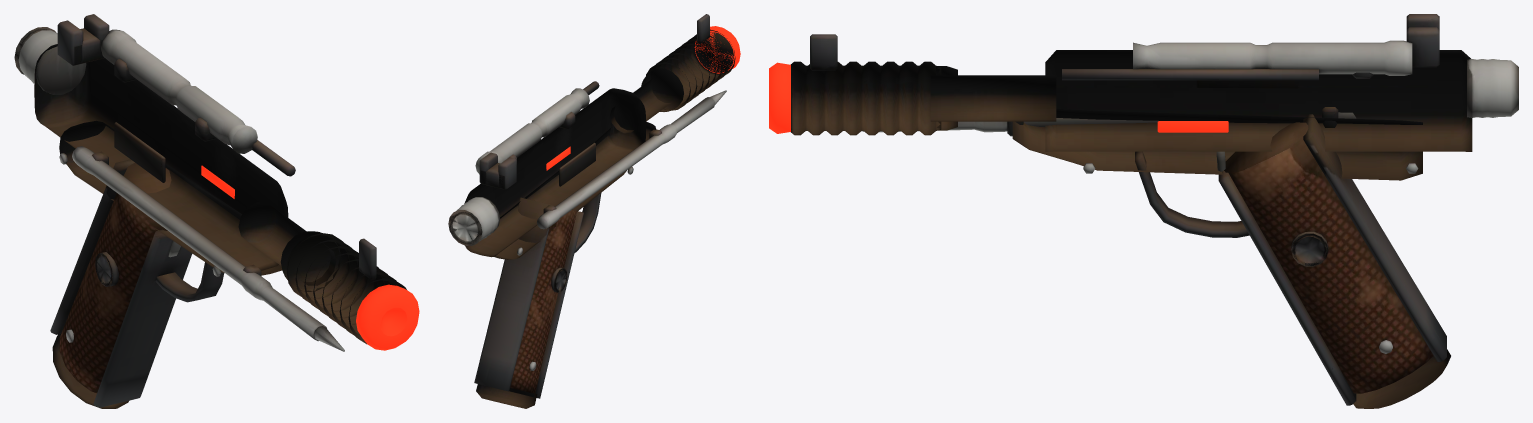
Rendered from pistol.glb.
The picture shows the model from 3 angles, left to right: view 1: azimuth 30°, elevation 25°; view 2: azimuth 150°, elevation 25°; view 3: azimuth 270°, elevation 25°; orthographic projection. The views are drawn at different scales.
Parts seen in each view (by area): view 1: Pistol; view 2: Pistol; view 3: Pistol.
Boxes of the visible parts, x1,y1,x2,y2 form: Pistol: (14,14,419,408); Pistol: (448,14,740,408); Pistol: (769,14,1518,408).
Size of the model in its own units: 0.0366 by 0.1542 by 0.274.
2 materials, 1 textured.
